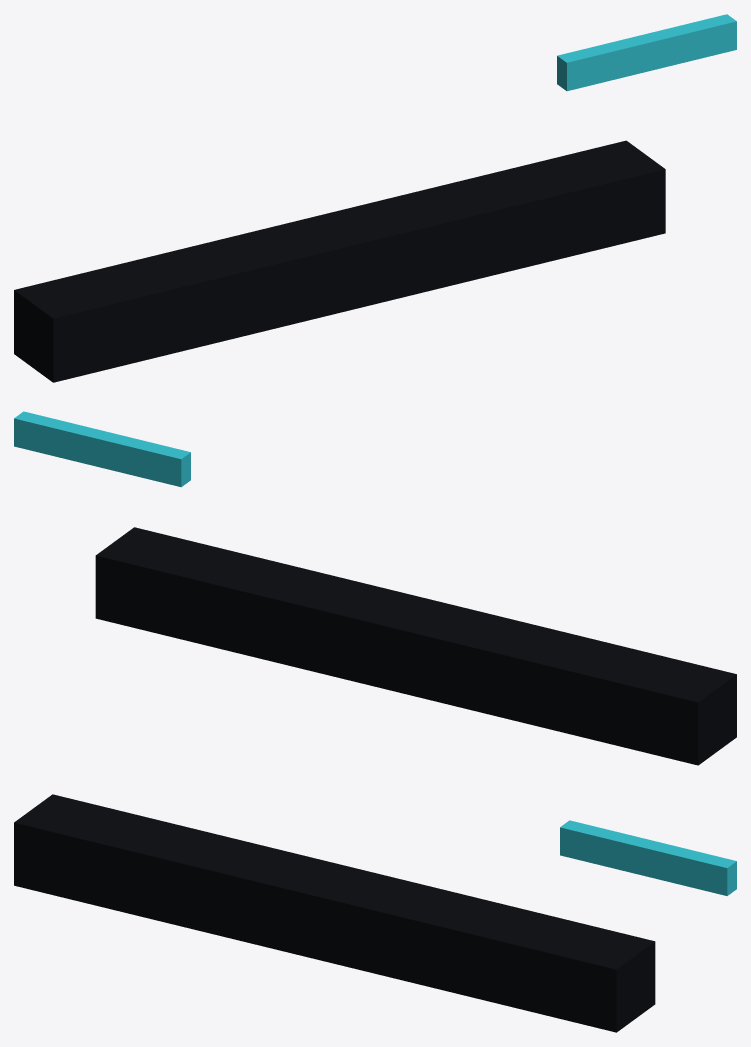
File: cover.copy_machine_bank.glb
3 renders of one model, top to bottom at view 1: azimuth 30°, elevation 25°; view 2: azimuth 150°, elevation 25°; view 3: azimuth 330°, elevation 25°, orthographic.
Parts seen in each view (by area): view 1: paper_tray, cyan_status; view 2: paper_tray, cyan_status; view 3: paper_tray, cyan_status.
Boxes of the visible parts, bbox=[...] form: paper_tray: bbox=[14, 140, 665, 382]; cyan_status: bbox=[557, 14, 736, 91]; paper_tray: bbox=[95, 527, 736, 765]; cyan_status: bbox=[14, 411, 190, 487]; paper_tray: bbox=[14, 794, 655, 1032]; cyan_status: bbox=[560, 820, 736, 895].
Size of what is drawn, in the model's own units: 2.07 by 0.49 by 0.2.
